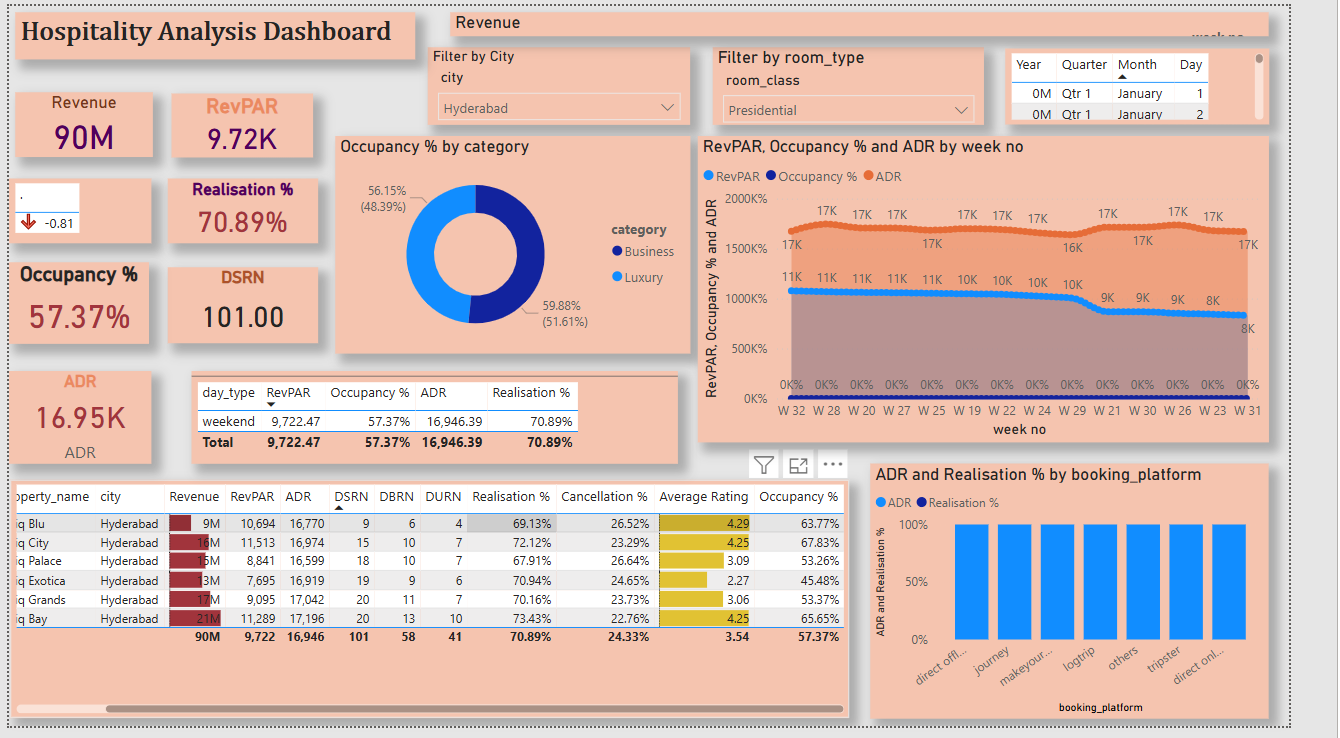

This screenshot's page, from the dashboard's own definition file:
{"tool":"powerbi","page":{"name":"Page 1","canvas":[1280,720],"ordinal":0},"visuals":[{"type":"tableEx","fields":{"Values":["dim_hotels.property_id","dim_hotels.property_name","dim_hotels.city","key_measures.Revenue","key_measures.RevPAR","key_measures.ADR","key_measures.DSRN","key_measures.DBRN","key_measures.DURN","key_measures.Realisation %","key_measures.Cancellation %","key_measures.Average Rating"]},"box":[1.2,473.8,838.8,238.8],"z":0},{"type":"slicer","title":"Filter by City","fields":{"Values":["dim_hotels.city"]},"box":[418.8,41.2,262.5,77.5],"z":1000},{"type":"slicer","title":"Filter by room_type","fields":{"Values":["dim_rooms.room_class"]},"box":[703.8,41.2,271.2,77.5],"z":2000},{"type":"donutChart","title":"Revenue","fields":{"Category":["dim_date.week no"]},"box":[441.2,6.2,818.8,23.8],"z":3000},{"type":"card","title":"Revenue","fields":{"Values":["key_measures.Revenue"]},"box":[6.2,86.2,137.5,65],"z":4000},{"type":"tableEx","fields":{"Values":["key_measures.Revenue WoW change %"]},"box":[0,172.5,142.5,65],"z":5000},{"type":"card","title":"RevPAR","fields":{"Values":["key_measures.RevPAR"]},"box":[162.5,87.5,141.2,63.8],"z":6000},{"type":"card","title":"DSRN","fields":{"Values":["key_measures.DSRN"]},"box":[158.8,261.2,150,76.2],"z":7000},{"type":"card","title":"Occupancy %","fields":{"Values":["key_measures.Occupancy %"]},"box":[0,256.2,140,81.2],"z":8000},{"type":"card","title":"ADR","fields":{"Values":["key_measures.ADR"]},"box":[0,365,142.5,92.5],"z":9000},{"type":"card","title":"Realisation %","fields":{"Values":["key_measures.Realisation %"]},"box":[158.8,172.5,150,65],"z":10000},{"type":"tableEx","fields":{"Values":["dim_date.mmm yy.Variation.Date Hierarchy.Year","dim_date.mmm yy.Variation.Date Hierarchy.Quarter","dim_date.mmm yy.Variation.Date Hierarchy.Month","dim_date.mmm yy.Variation.Date Hierarchy.Day"]},"box":[996.2,42.5,263.8,76.2],"z":11000},{"type":"donutChart","fields":{"Category":["dim_hotels.category"],"Y":["key_measures.Occupancy %"]},"box":[326.2,130,355,217.5],"z":12000},{"type":"hundredPercentStackedColumnChart","fields":{"Y":["key_measures.ADR","key_measures.Realisation %"],"Category":["fact_bookings.booking_platform"]},"box":[861.2,457.5,398.8,255],"z":13000},{"type":"tableEx","fields":{"Values":["dim_date.day_type","key_measures.RevPAR","key_measures.Occupancy %","key_measures.ADR","key_measures.Realisation %"]},"box":[182.5,365,486.2,92.5],"z":14000},{"type":"lineChart","fields":{"Category":["dim_date.week no"],"Y":["key_measures.RevPAR","key_measures.Occupancy %","key_measures.ADR"]},"box":[688.8,130,571.2,306.2],"z":15000},{"type":"textbox","box":[6.2,6.2,400,47.5],"z":15001}]}

Visuals, with their boxes in screenshot pixels (x1, y1, x2, y2), scaled from the page's 1280x720 canvas onto the 1340x738 screenshot:
tableEx - dim_hotels.property_id x dim_hotels.property_name: 1/486/879/730
"Filter by City" slicer: 438/42/713/122
"Filter by room_type" slicer: 737/42/1021/122
"Revenue" donutChart: 462/6/1319/31
"Revenue" card: 6/88/150/155
tableEx - key_measures.Revenue WoW change %: 0/177/149/243
"RevPAR" card: 170/90/318/155
"DSRN" card: 166/268/323/346
"Occupancy %" card: 0/263/147/346
"ADR" card: 0/374/149/469
"Realisation %" card: 166/177/323/243
tableEx - dim_date.mmm yy.Variation.Date Hierarchy.Year x dim_date.mmm yy.Variation.Date Hierarchy.Quarter: 1043/44/1319/122
donutChart - dim_hotels.category x key_measures.Occupancy %: 341/133/713/356
hundredPercentStackedColumnChart - key_measures.ADR x key_measures.Realisation %: 902/469/1319/730
tableEx - dim_date.day_type x key_measures.RevPAR: 191/374/700/469
lineChart - dim_date.week no x key_measures.RevPAR: 721/133/1319/447
textbox: 6/6/425/55
